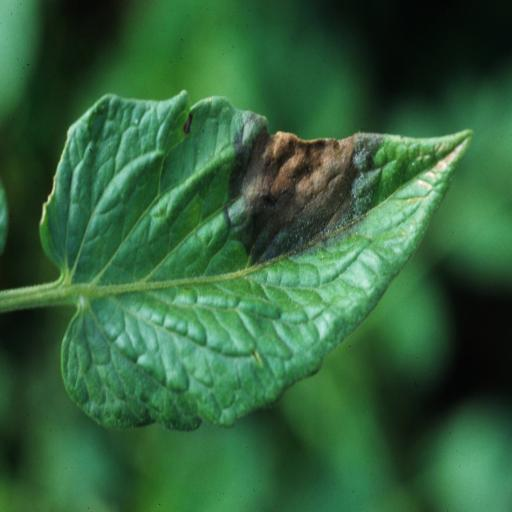disease_tomato: (39, 90, 475, 434)
